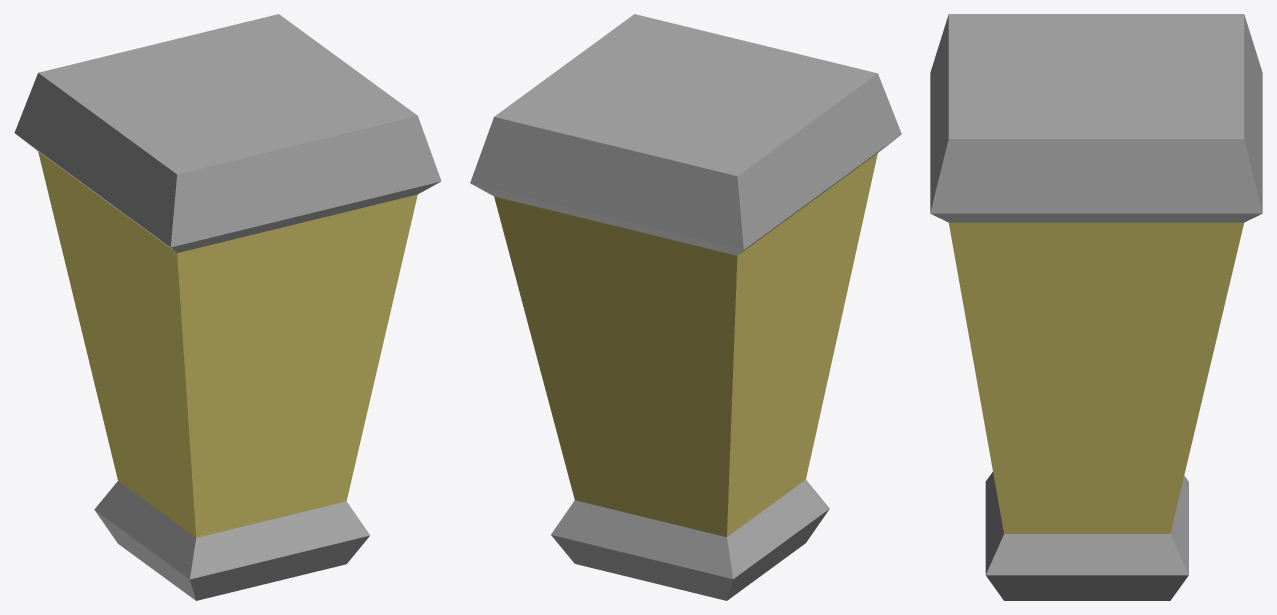
File: Light Outdoor.fbx
The picture shows the model from 3 angles, left to right: view 1: azimuth 30°, elevation 25°; view 2: azimuth 150°, elevation 25°; view 3: azimuth 270°, elevation 25°; orthographic projection. The views are drawn at different scales.
Parts seen in each view (by area): view 1: pCube1; view 2: pCube1; view 3: pCube1.
Part boxes in pixels (x1,y1,x2,y2): pCube1: (14, 14, 441, 600); pCube1: (470, 14, 901, 600); pCube1: (930, 14, 1262, 600).
Size of the model in its own units: 18 by 29 by 18.
